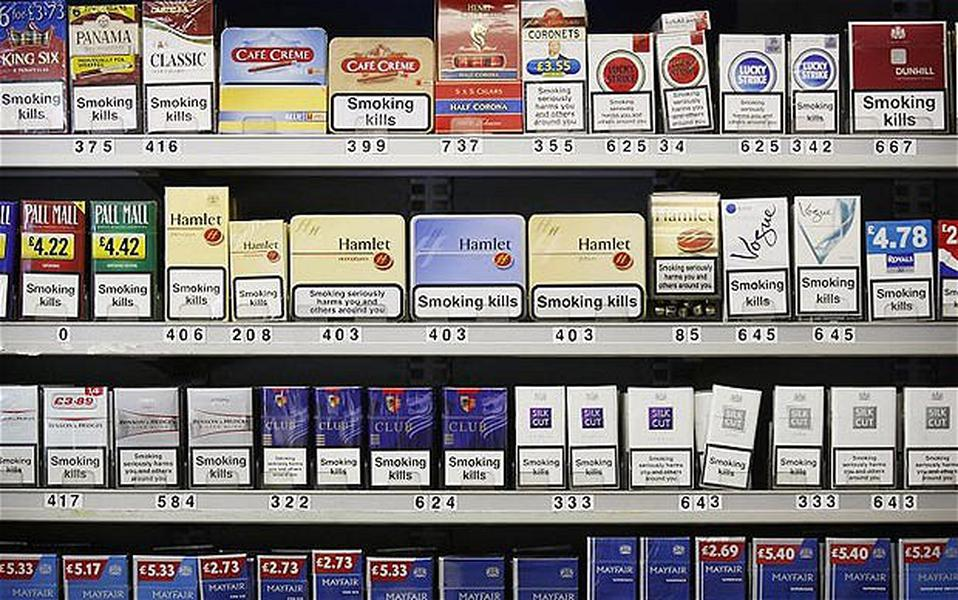lucky_strike_blue: (720, 36, 783, 134), (793, 36, 836, 131)
lucky_strike_red: (586, 34, 651, 131), (660, 34, 705, 131)
